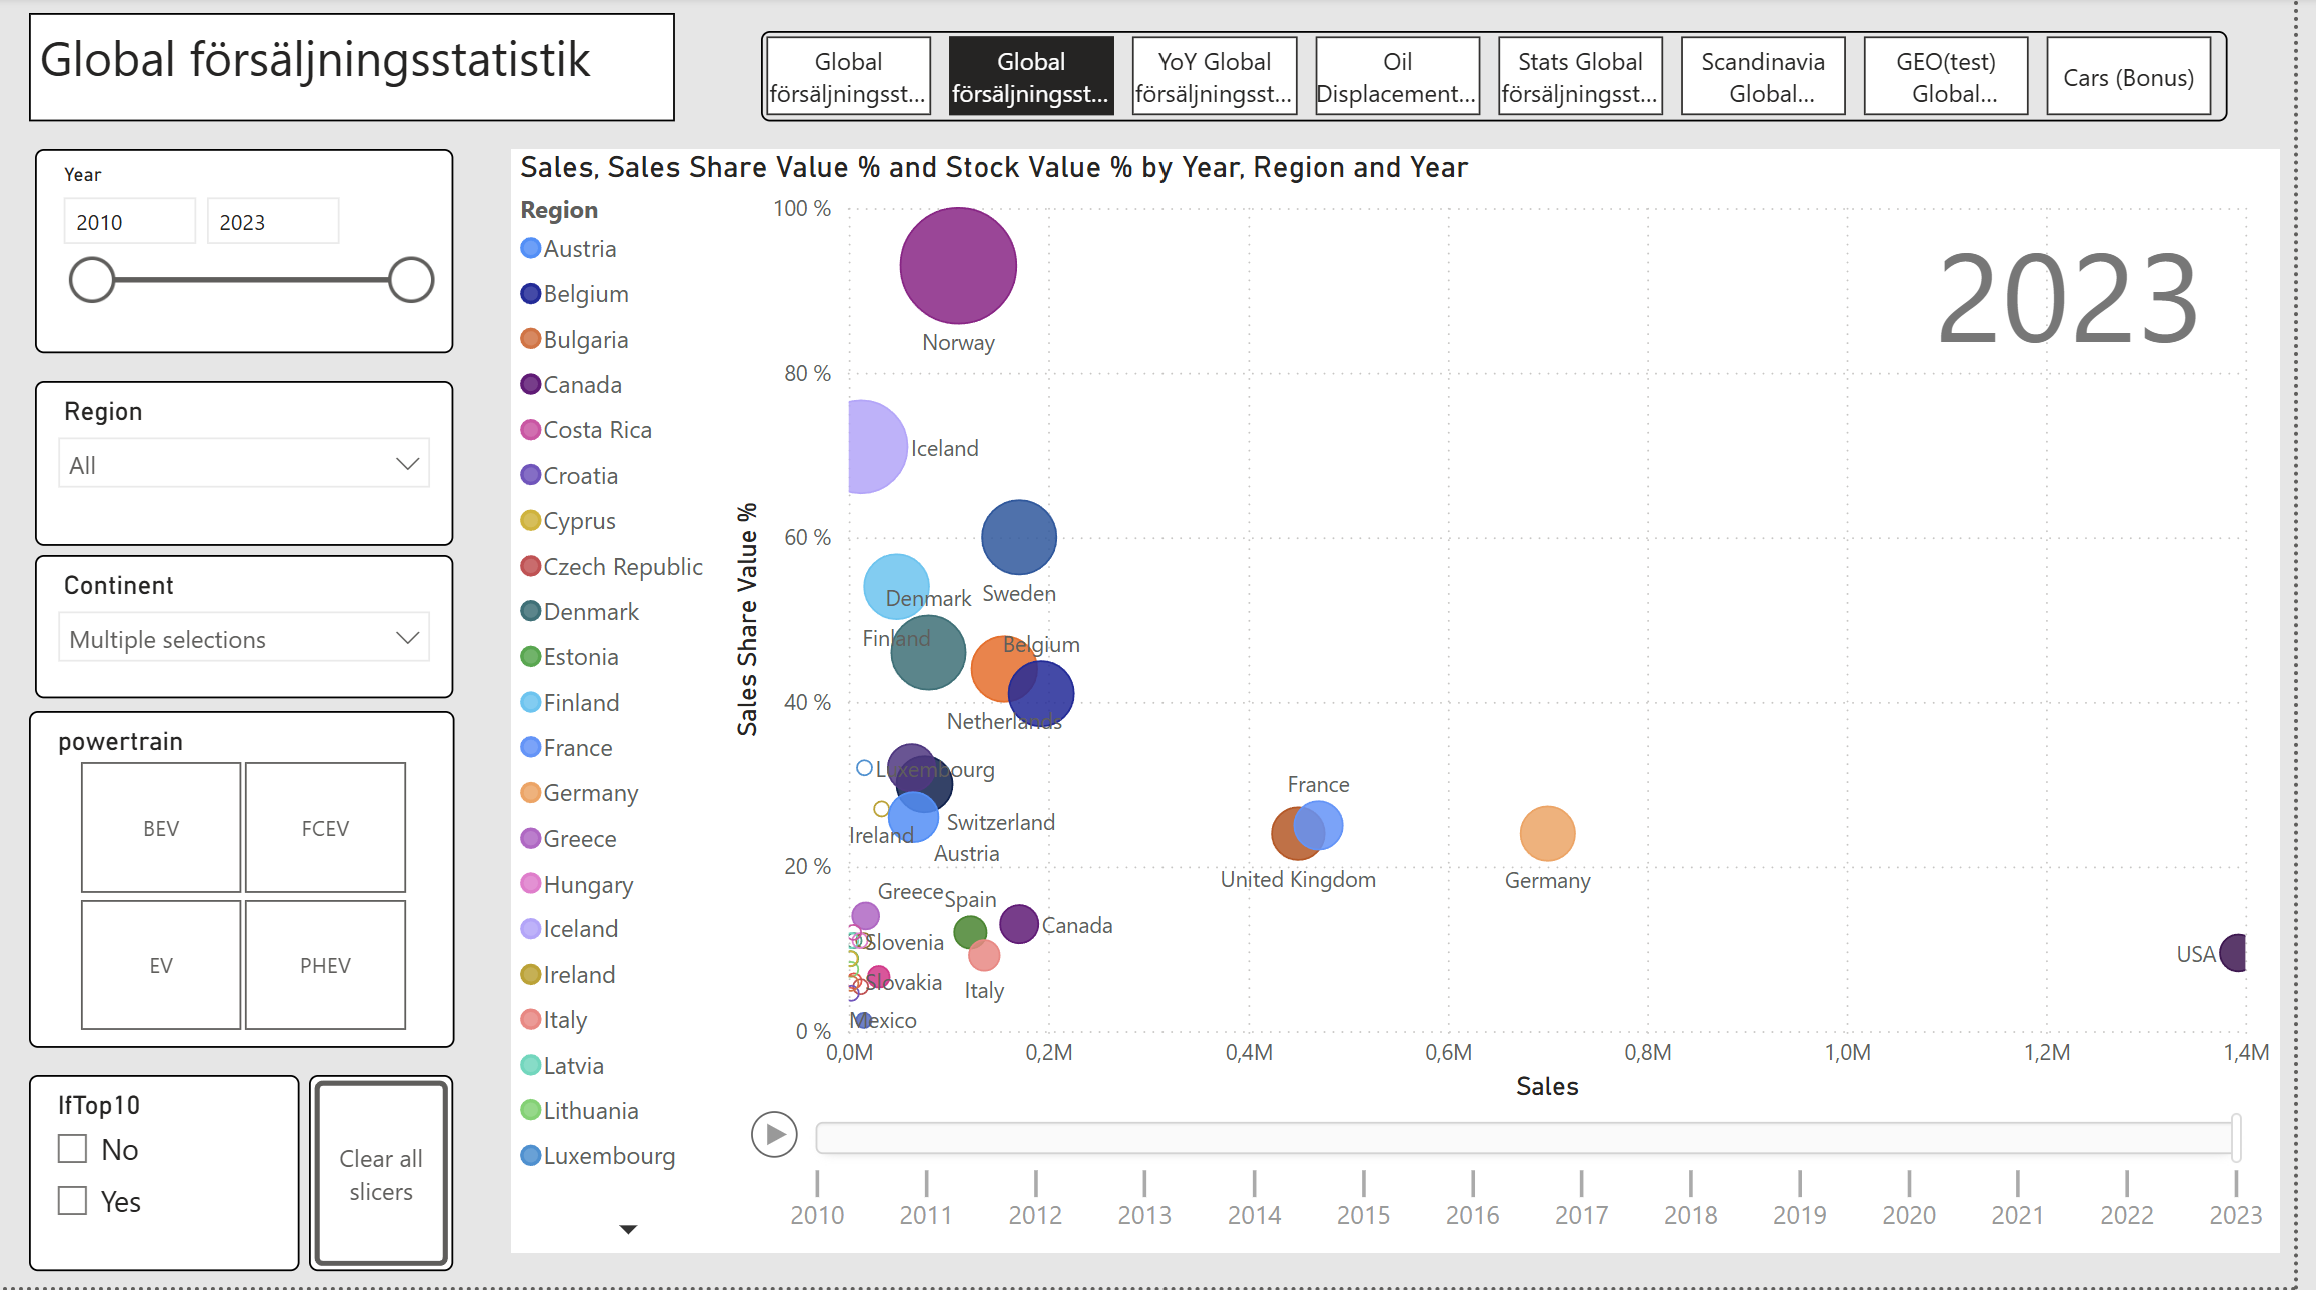

This screenshot's page, from the dashboard's own definition file:
{"tool":"powerbi","page":{"name":"Global försäljningsstatistik 2","canvas":[1280,720],"ordinal":1},"visuals":[{"type":"textbox","box":[16.8,9,360.6,60.5],"z":0},{"type":"slicer","fields":{"Values":["Dim region.region"]},"box":[19.7,214,233.6,91.9],"z":1000},{"type":"slicer","fields":{"Values":["Dim_Powertrain.powertrain"]},"box":[16.8,398.6,237.4,188.1],"z":2000},{"type":"slicer","fields":{"Values":["Dim_date.Year"]},"box":[19.7,85.3,233.6,114.2],"z":3000},{"type":"slicer","fields":{"Values":["Dim Region.Kontinent"]},"box":[19.7,311.1,233.6,80.1],"z":4000},{"type":"slicer","fields":{"Values":["Dim Region.IfTop10"]},"box":[16.8,601.3,151.2,109.7],"z":5000},{"type":"actionButton","box":[173.6,601.3,80.6,109.7],"z":6000},{"type":"scatterChart","fields":{"Series":["Dim region.region"],"X":["Sum(Fact_EV_Sales.Ev_Sales)"],"Y":["Sum(Fact_EV_Sales_Share.Sales Value %)"],"Size":["Sum(Fact_EV_Stock Share.Stock Value %)"],"Category":["Dim_date.Year"],"Play":["Dim_date.Year"]},"box":[285.5,85.1,986.5,615.8],"z":7000},{"type":"pageNavigator","box":[879,19,363.9,50.4],"z":8000}]}

Visuals, with their boxes on the page's 1280x720 design canvas (x1, y1, x2, y2). These are canvas units, not pixel positions in the 2316x1290 screenshot, which may show the page scaled, cropped or inside an application window:
textbox: (17, 9, 377, 70)
slicer - Dim region.region: (20, 214, 253, 306)
slicer - Dim_Powertrain.powertrain: (17, 399, 254, 587)
slicer - Dim_date.Year: (20, 85, 253, 200)
slicer - Dim Region.Kontinent: (20, 311, 253, 391)
slicer - Dim Region.IfTop10: (17, 601, 168, 711)
actionButton: (174, 601, 254, 711)
scatterChart - Dim region.region x Sum(Fact_EV_Sales.Ev_Sales): (286, 85, 1272, 701)
pageNavigator: (879, 19, 1243, 69)
